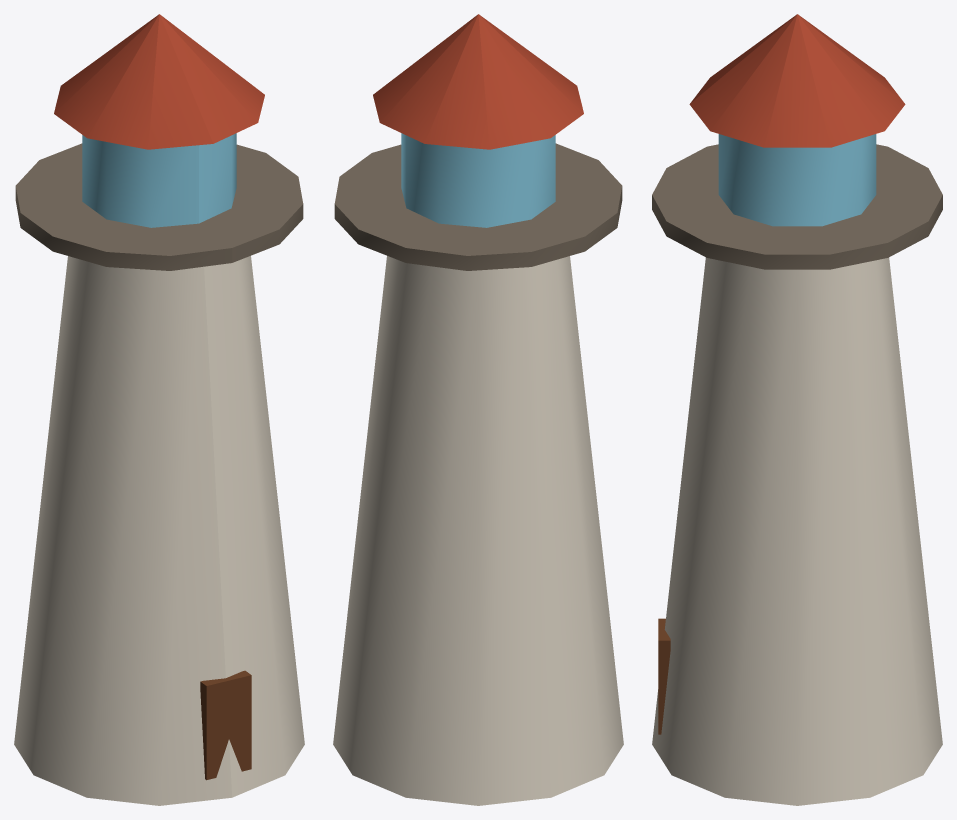
File: lighthouse.glb
3 views of the same model, side by side, from view 1: azimuth 30°, elevation 25°; view 2: azimuth 150°, elevation 25°; view 3: azimuth 270°, elevation 25° (orthographic).
Parts seen in each view (by area): view 1: lighthouse; view 2: lighthouse; view 3: lighthouse.
Part boxes in pixels (x1,y1,x2,y2): lighthouse: (14,14,304,805); lighthouse: (333,14,623,805); lighthouse: (652,14,942,805).
Bounding box in the file's own units: 1.4 × 3.88 × 1.4.
